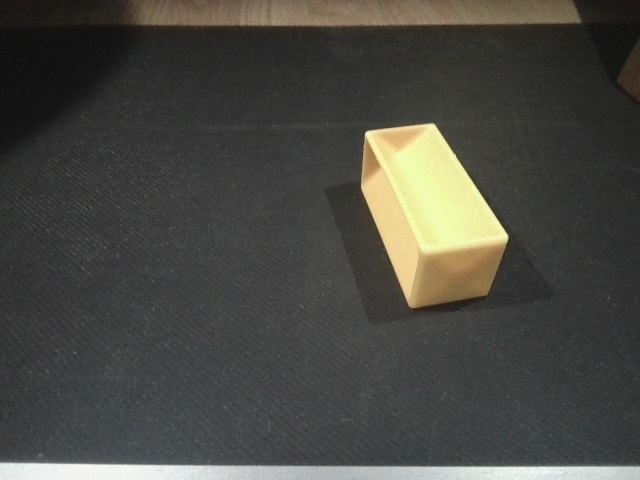YellowSample: (353, 117, 517, 338)
